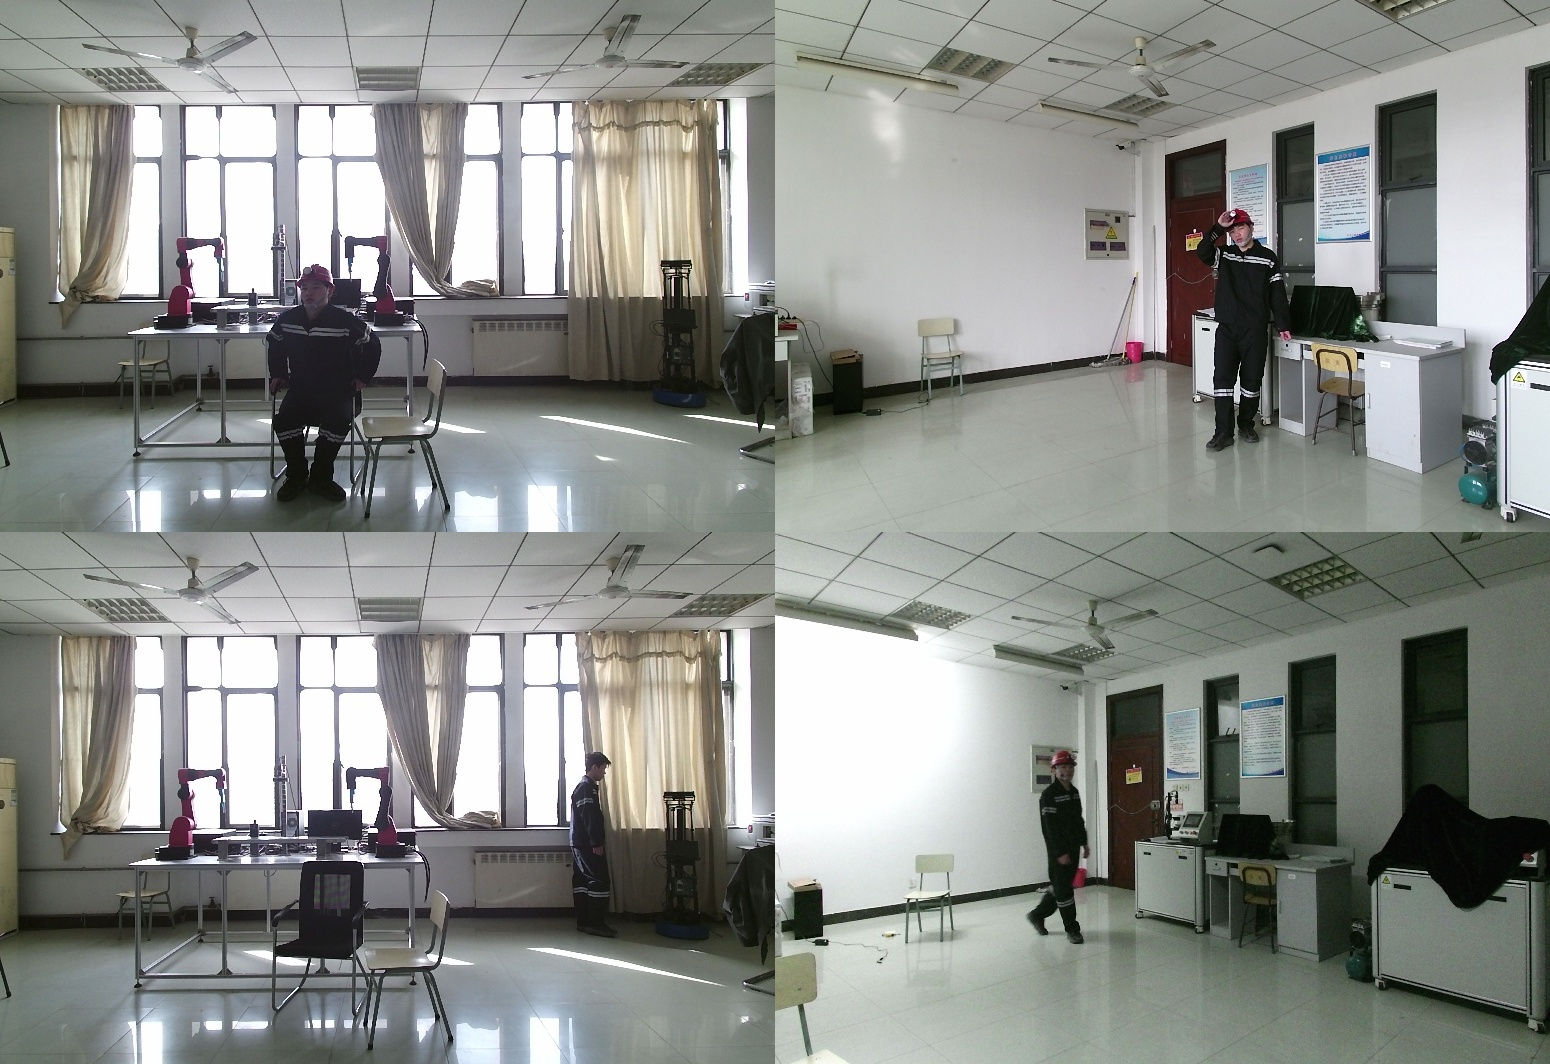person: (266, 264, 390, 503), (1200, 210, 1298, 450), (1021, 752, 1087, 958), (571, 753, 636, 942)
